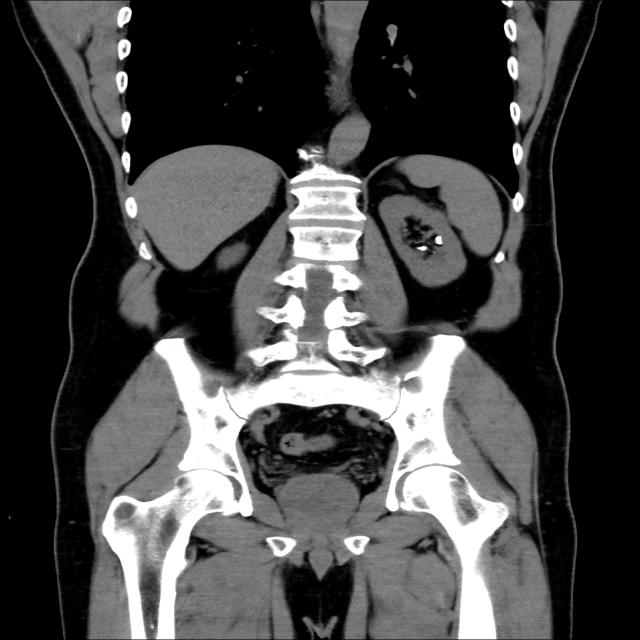kidneystone: (415, 245, 429, 256), (434, 235, 444, 246)
